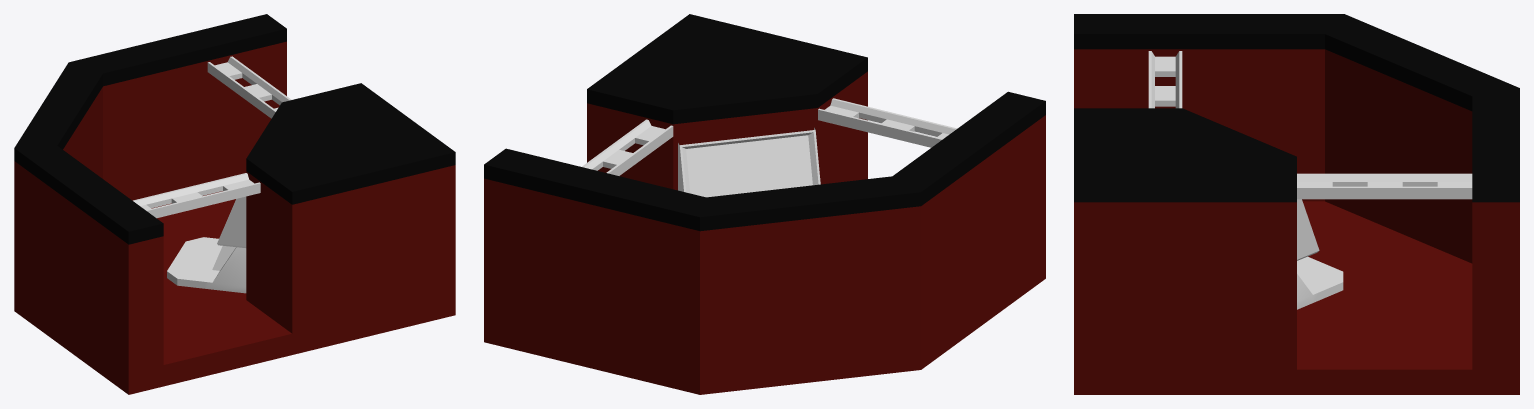
File: CornerRoom.FBX
3 renders of one model, left to right at view 1: azimuth 30°, elevation 25°; view 2: azimuth 150°, elevation 25°; view 3: azimuth 270°, elevation 25°, orthographic. The views are drawn at different scales.
Visible parts, largest first — view 1: Romm, CornerRoof, Box004, Box019, Box020; view 2: Romm, CornerRoof, Box004, Box019, Box020; view 3: Romm, CornerRoof, Box020, Box004, Box019.
Boxes of the visible parts, box(x1,y1,x2,y2) form: Romm: box(14, 41, 455, 394); CornerRoof: box(14, 14, 455, 244); Box004: box(167, 196, 246, 293); Box019: box(133, 173, 260, 218); Box020: box(207, 56, 291, 118); Romm: box(484, 71, 1045, 394); CornerRoof: box(484, 14, 1045, 231); Box004: box(678, 127, 820, 197); Box019: box(818, 98, 957, 147); Box020: box(582, 119, 673, 175); Romm: box(1074, 49, 1519, 394); CornerRoof: box(1074, 14, 1519, 202); Box020: box(1297, 173, 1472, 199); Box004: box(1297, 199, 1343, 309); Box019: box(1148, 51, 1182, 108).
Size of the model in its own units: 160 by 76.26 by 160.
